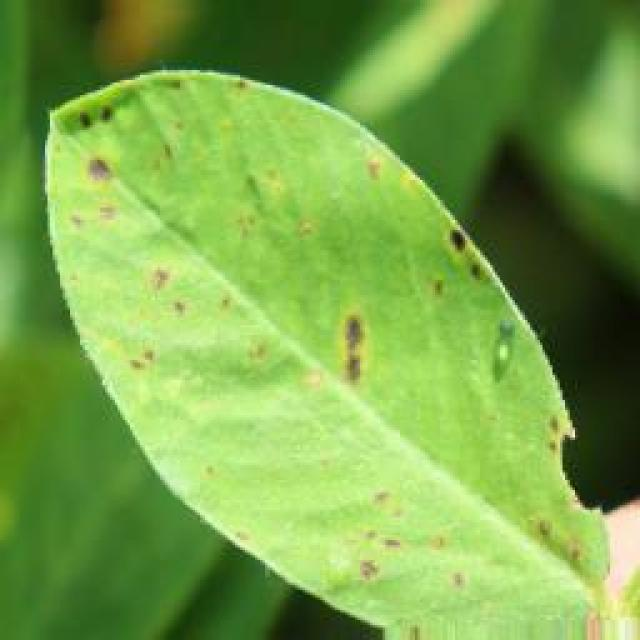Sigatoka: (220, 70, 321, 148), (65, 140, 146, 232), (234, 177, 334, 250), (324, 311, 389, 413), (425, 199, 488, 284), (140, 246, 200, 334), (225, 329, 295, 393), (146, 130, 232, 181), (363, 464, 413, 548), (344, 538, 411, 596), (104, 352, 194, 389), (426, 530, 470, 597), (367, 141, 400, 201)
